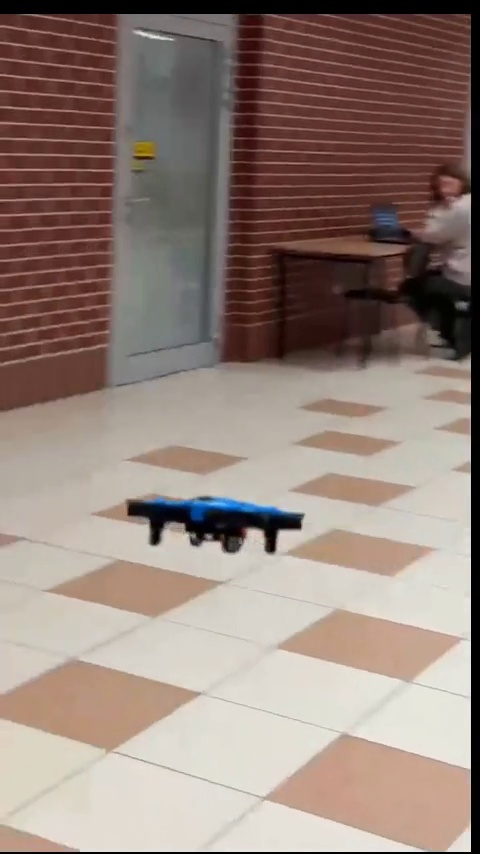drone: (120, 495, 305, 556)
no vest: (402, 165, 480, 338)
